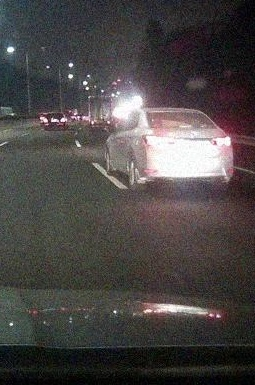L_light: (143, 135, 169, 145)
R_light: (209, 136, 231, 147)
T_light: (170, 111, 182, 114)
night-no: (142, 108, 233, 192)
